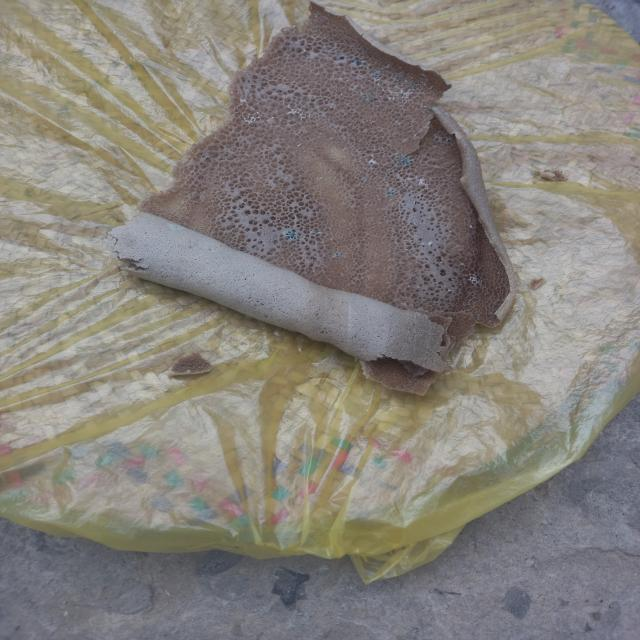injera_mold: (284, 103, 310, 121), (381, 86, 412, 100), (237, 109, 262, 125), (407, 175, 431, 189), (465, 273, 485, 289), (393, 153, 414, 167), (282, 230, 298, 240), (235, 96, 248, 108), (350, 57, 364, 68), (360, 92, 375, 100), (370, 77, 385, 85), (309, 230, 324, 237), (386, 189, 397, 197), (170, 223, 182, 230), (380, 64, 391, 70), (333, 252, 343, 258), (373, 70, 383, 76), (394, 76, 404, 82), (410, 83, 420, 89), (446, 136, 456, 142), (337, 55, 346, 61), (369, 159, 376, 165), (427, 241, 435, 246), (362, 177, 368, 183), (469, 223, 474, 230), (316, 176, 323, 181), (297, 143, 302, 148), (314, 13, 319, 18), (460, 262, 466, 266), (370, 154, 374, 157)
